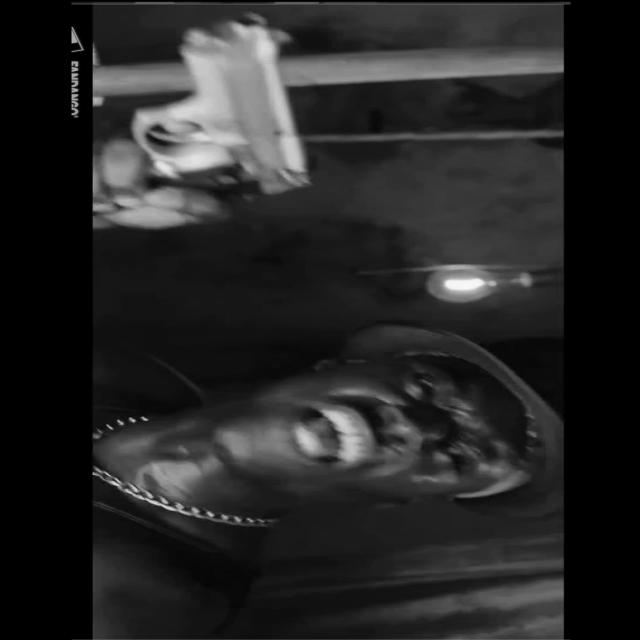weapons: (105, 12, 312, 208)
